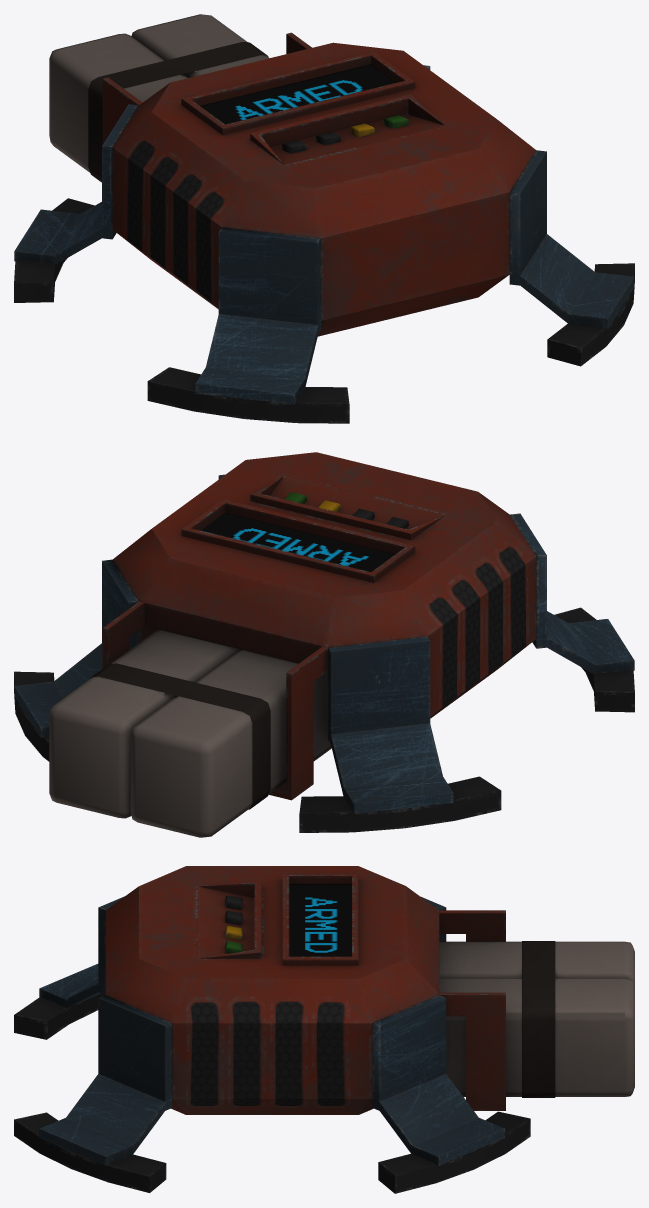
Rendered from bomb.obj.
3 renders of one model, top to bottom at view 1: azimuth 30°, elevation 25°; view 2: azimuth 150°, elevation 25°; view 3: azimuth 270°, elevation 25°, orthographic. The views are drawn at different scales.
Visible parts, largest first — view 1: bomb; view 2: bomb; view 3: bomb.
Boxes of the visible parts, left/top/right/bottom form: bomb: left=14, top=14, right=634, bottom=423; bomb: left=14, top=452, right=634, bottom=837; bomb: left=14, top=866, right=634, bottom=1193.
Size of the model in its own units: 155 by 55.63 by 186.
1 material, 1 textured.
